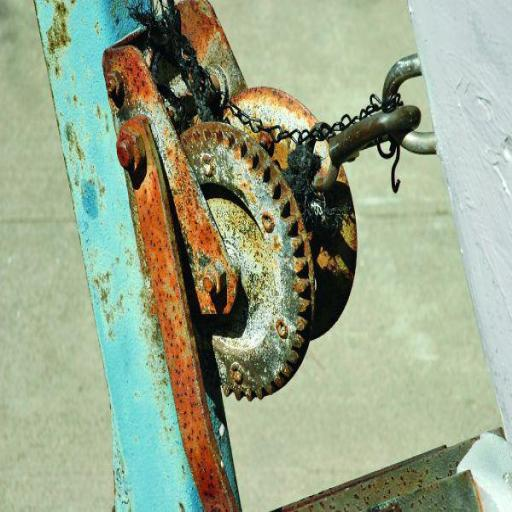corrosion: (109, 112, 237, 512), (102, 41, 162, 112), (175, 156, 189, 185)
